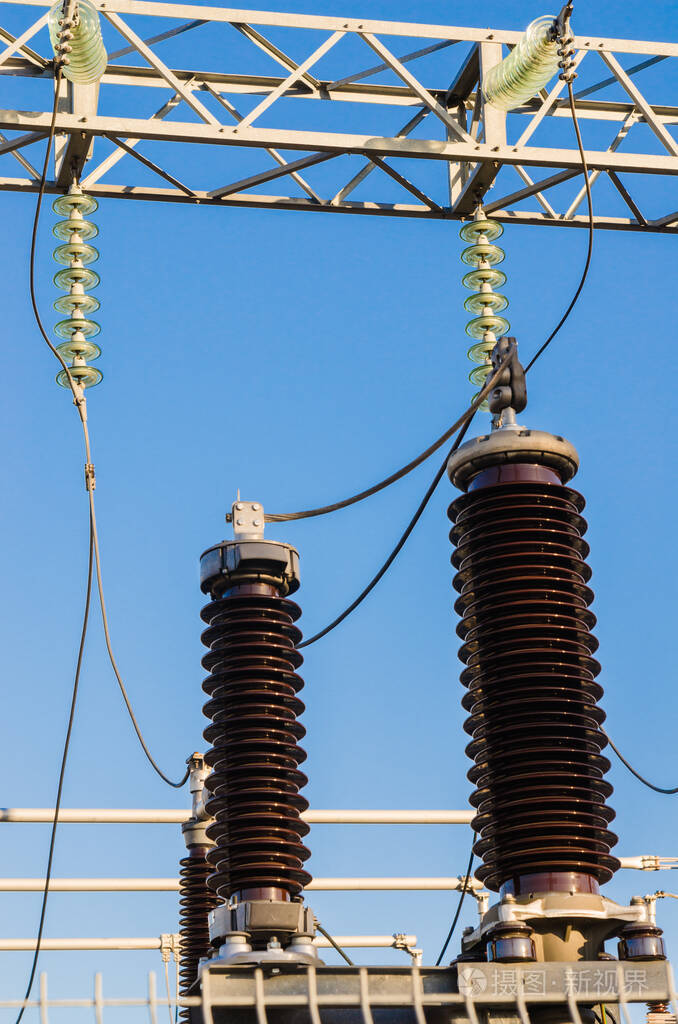insulator: (436, 484, 628, 886), (203, 588, 317, 884), (461, 218, 509, 407), (56, 188, 101, 388), (170, 858, 223, 1022), (485, 20, 569, 119), (45, 1, 109, 81)
